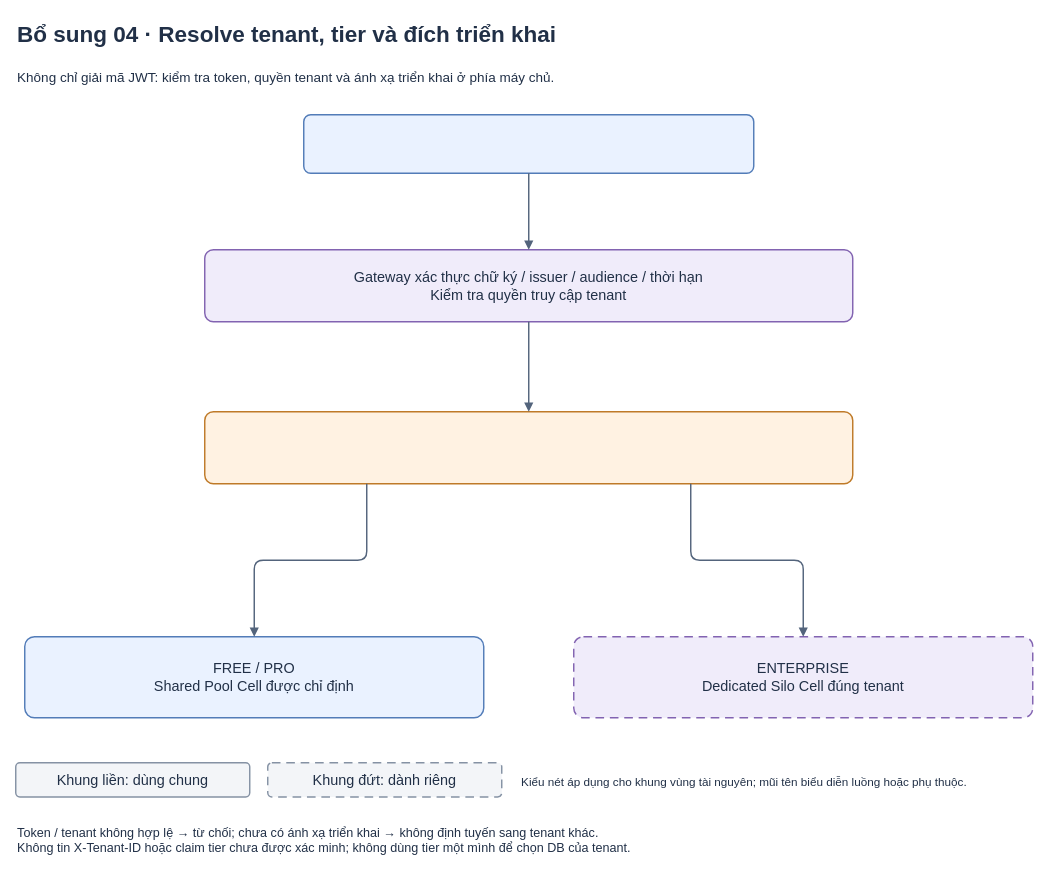
Image size: 1058x883. Some labels were removed from this diagram. The shapes that lost their labels are listed below. From the top down, each one's centre as x and y in pixels, then its label:
the point at 528,144: HTTP Request + Bearer JWT
the point at 528,447: Tenant Registry tenant_id → tier + cell_id + deployment đích
